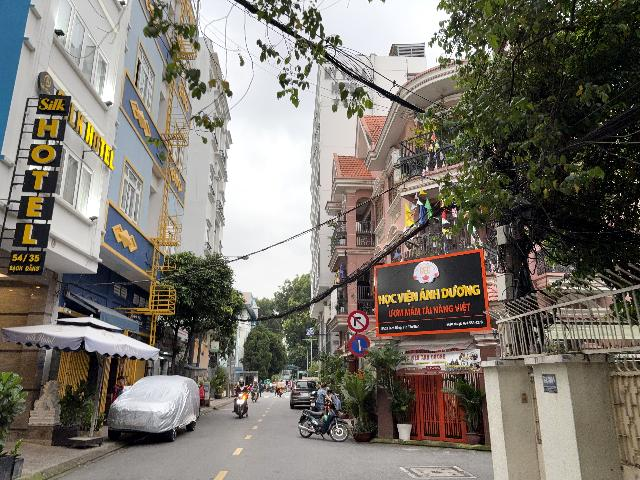cam-do-xe-ngay-le: (348, 334, 370, 357)
cam-re-phai: (347, 310, 369, 332)
